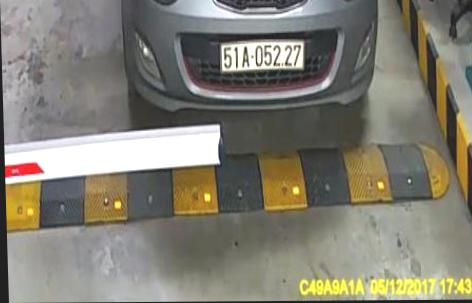License_Plate: (215, 35, 313, 80)
